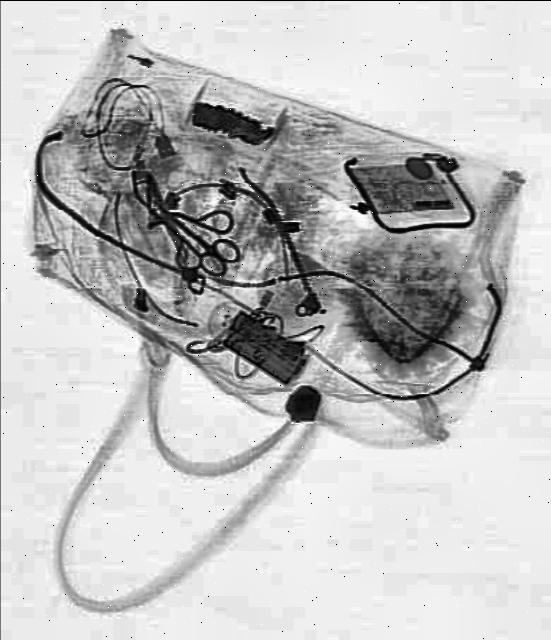Scissors: (146, 192, 242, 286)
